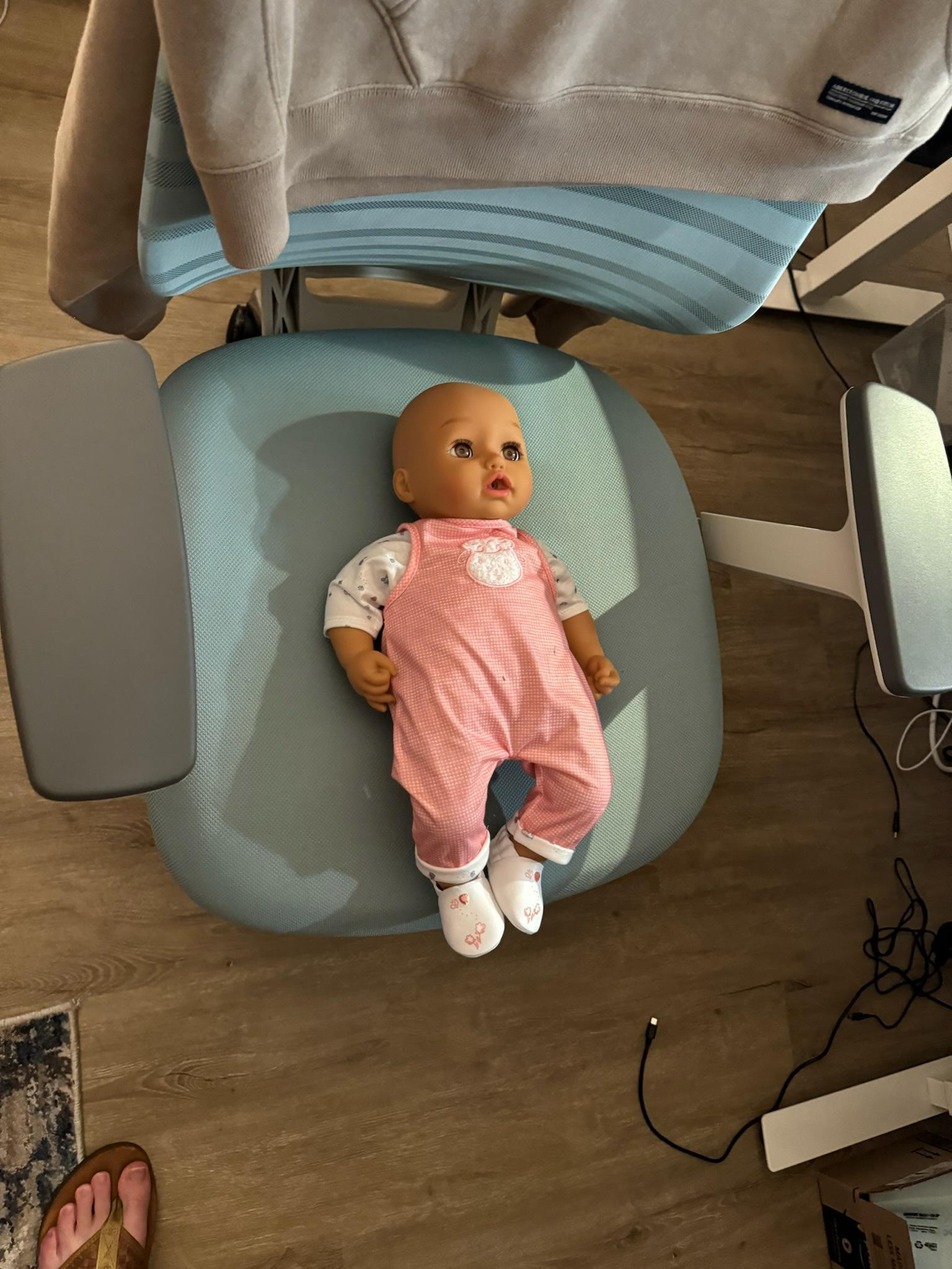baby: (297, 366, 636, 967)
